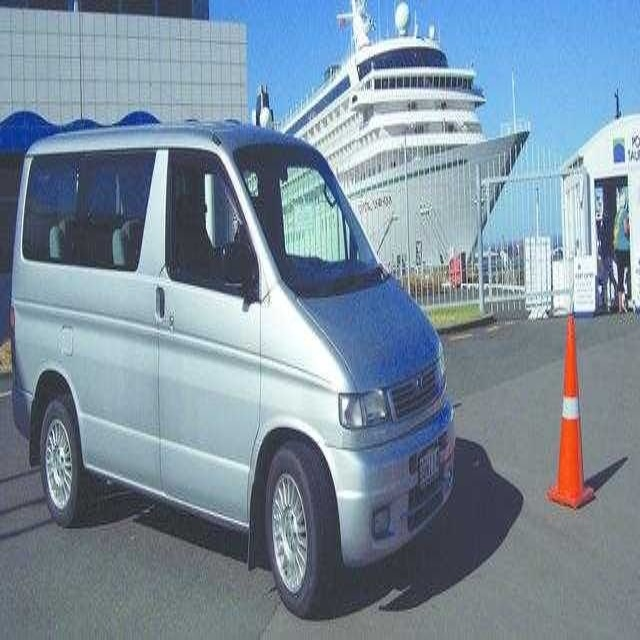Van: (8, 122, 454, 622)
